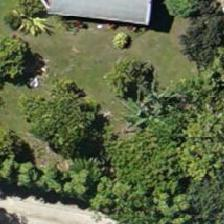coconut_tree: (122, 52, 212, 142), (95, 66, 185, 156), (0, 0, 72, 65)
